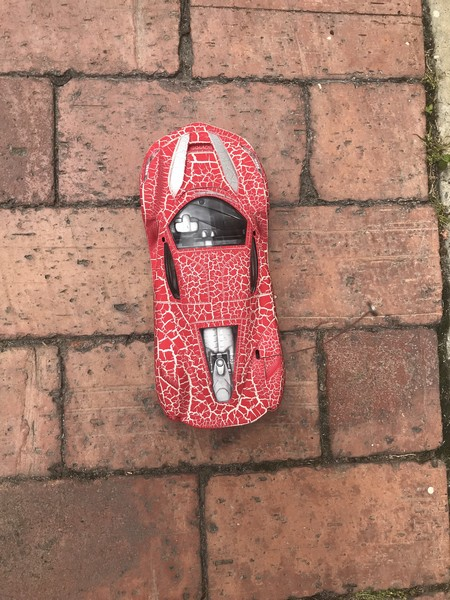RC: (138, 123, 287, 434)
